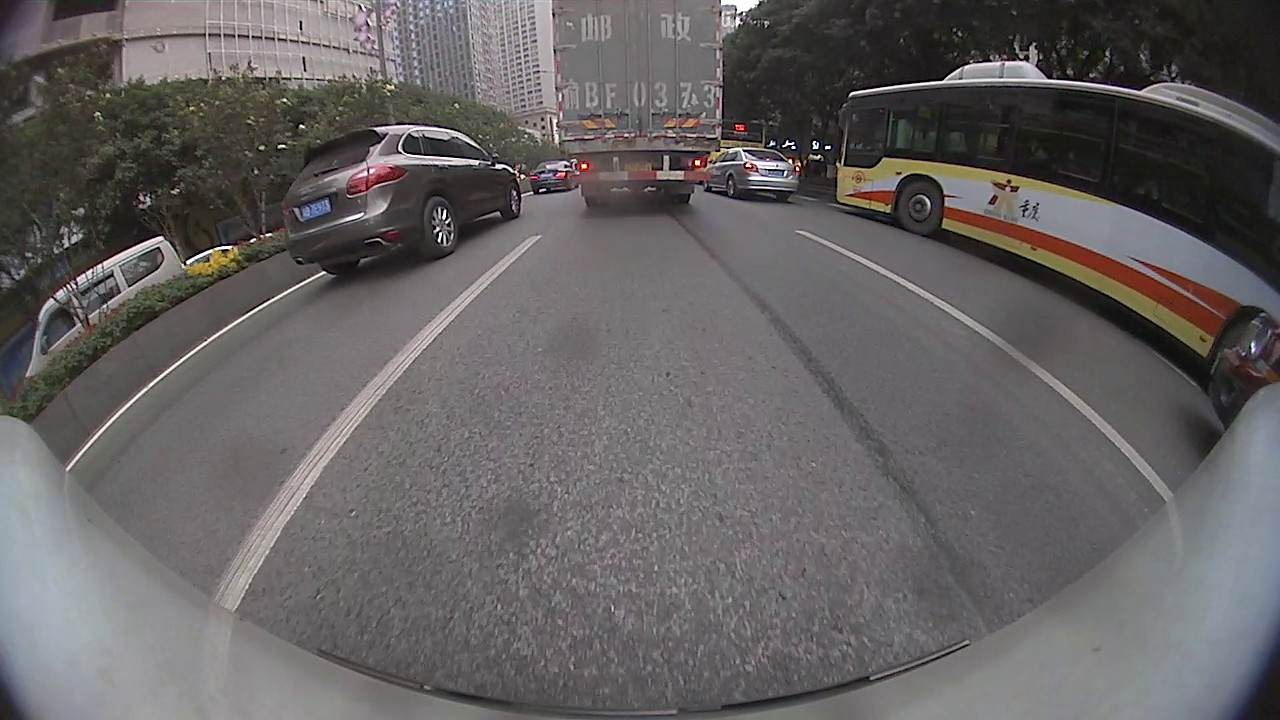bus: (834, 61, 1279, 372)
car: (279, 124, 520, 274), (27, 232, 192, 383), (1205, 311, 1277, 432), (706, 150, 801, 203), (528, 159, 577, 192)
front: (895, 178, 943, 236), (499, 180, 521, 222)
rear: (420, 194, 459, 262), (725, 176, 738, 198)
truck: (552, 0, 722, 206)
